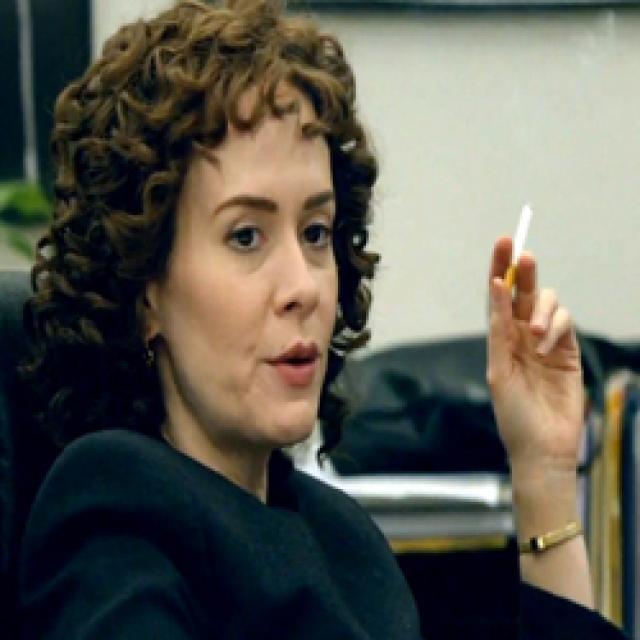Smooking: (497, 198, 547, 315)
